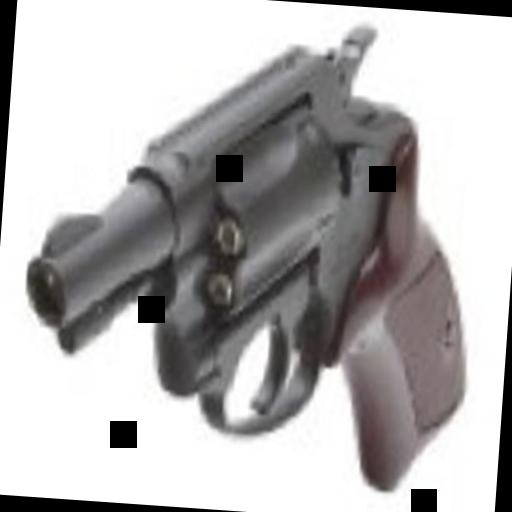Handgun: (9, 0, 491, 482)
